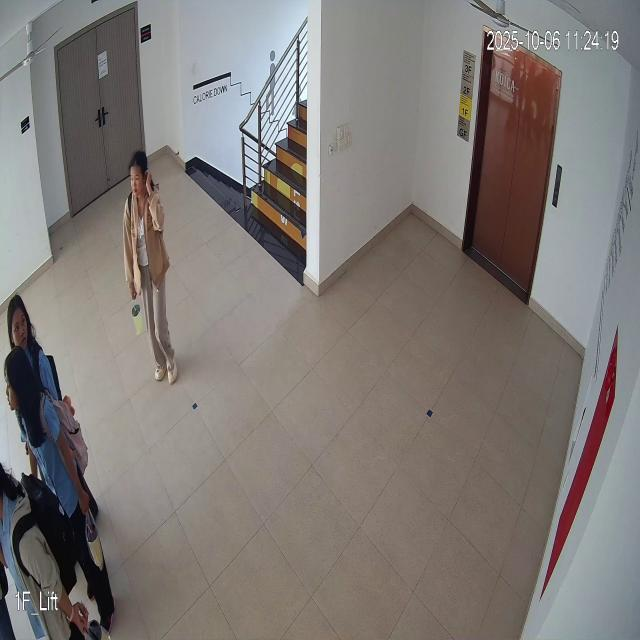face: (5, 292, 31, 354), (127, 150, 156, 204)
